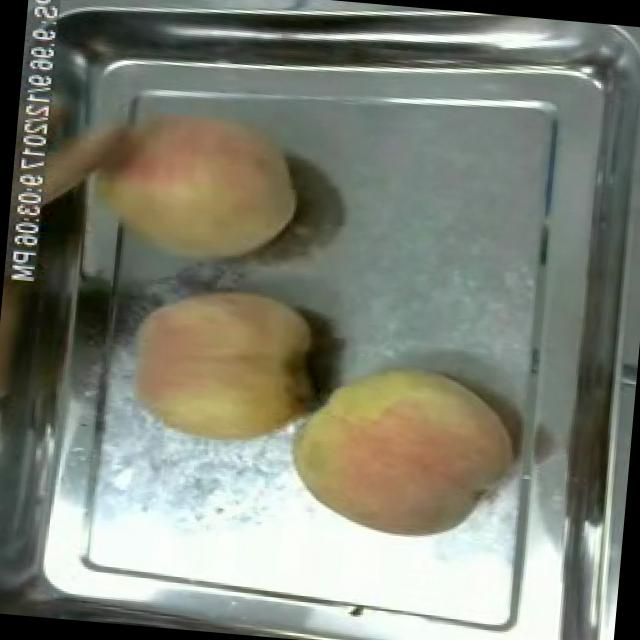Fruit: (281, 348, 523, 555), (88, 74, 315, 288), (110, 265, 331, 458)
